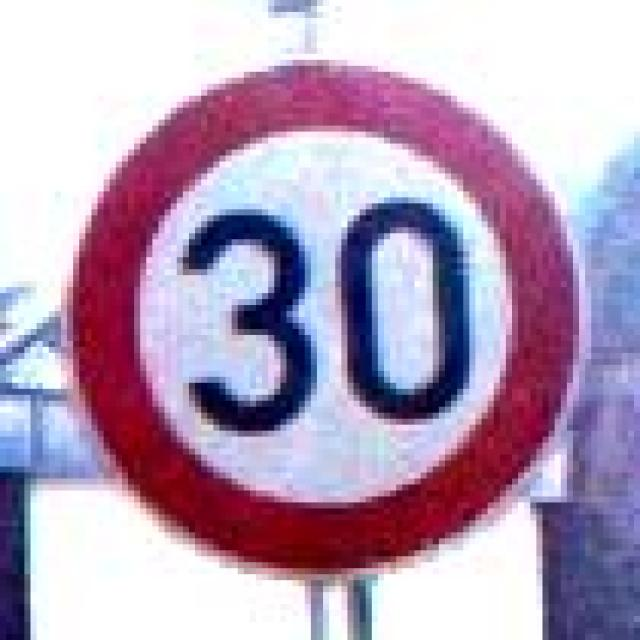speed limit 30: (67, 60, 581, 576)
